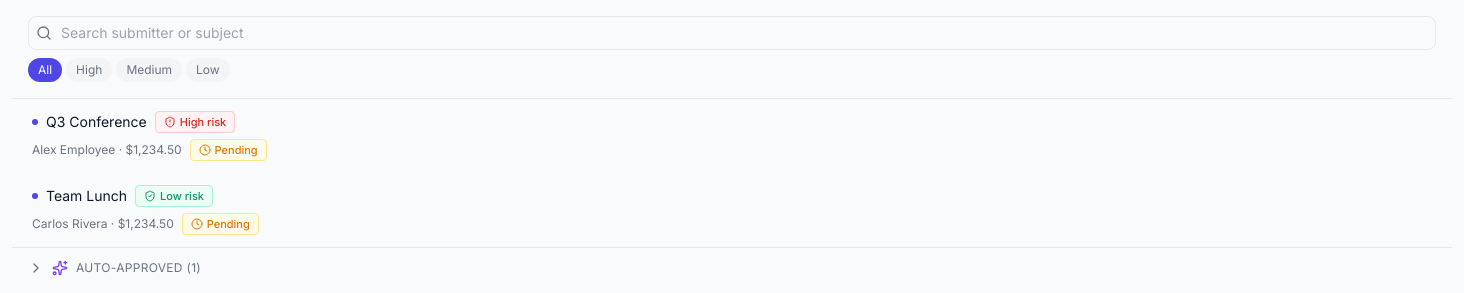
Test case: ApprovalQueue › risk filter narrows the active queue (display-only)
Step 1. Click the button "high" → (89, 70), box [66, 58, 112, 82]
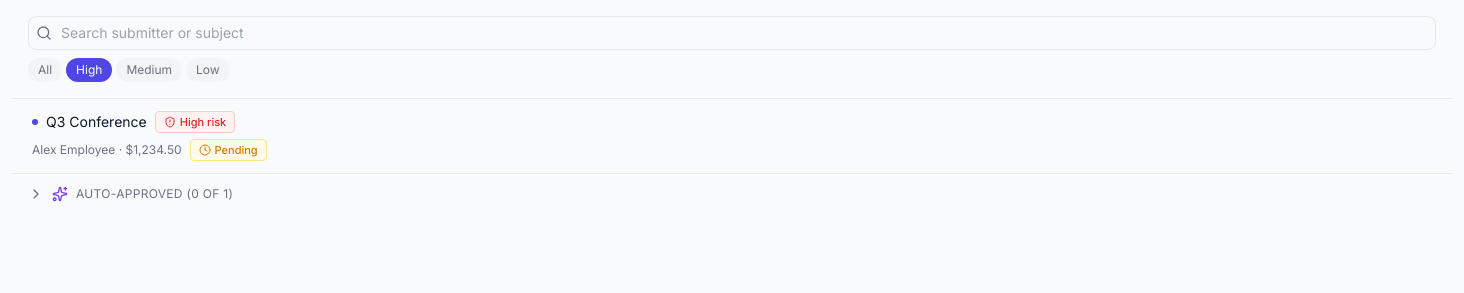
Expected: the text "Q3 Conference" is shown, [46, 112, 147, 132]
Expected: the button "Team Lunch" is gone
